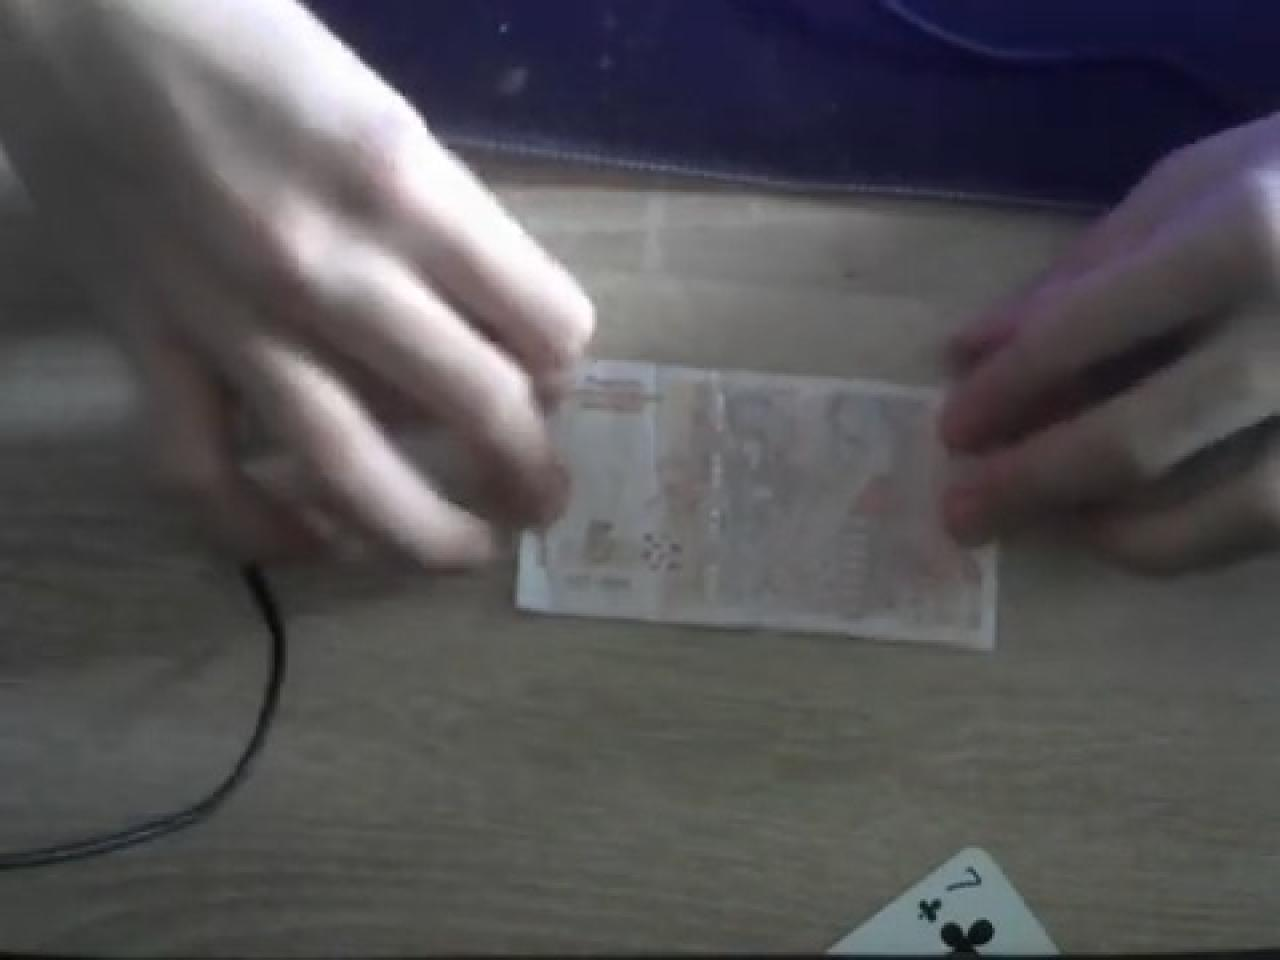5leva: (512, 357, 1003, 656)
